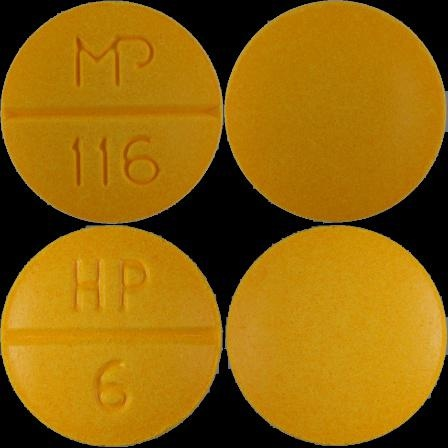53808-0302: (0, 0, 224, 224)
